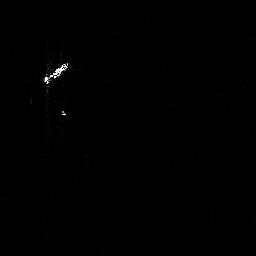ship: (40, 58, 72, 87)
